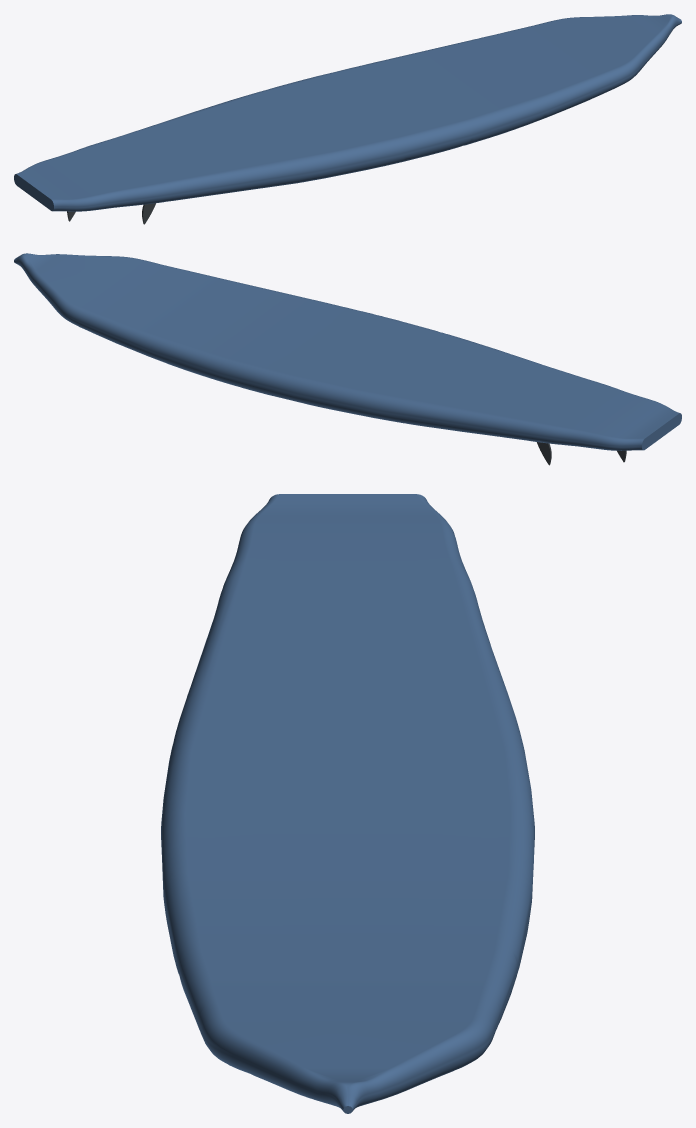
3 renders of one model, top to bottom at view 1: azimuth 30°, elevation 25°; view 2: azimuth 150°, elevation 25°; view 3: azimuth 270°, elevation 25°, orthographic. The views are drawn at different scales.
Visible parts, largest first — view 1: body.1; view 2: body.1; view 3: body.1.
Part boxes in pixels (x1,y1,x2,y2): body.1: (14,14,681,211); body.1: (14,253,681,450); body.1: (161,494,534,1113).
Bounding box in the file's own units: 2.29 × 0.2035 × 0.5726.
